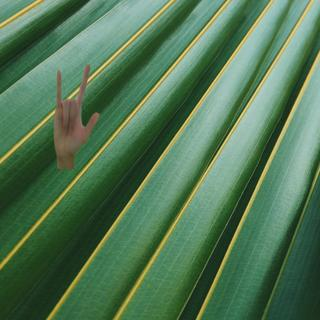ILY: (49, 62, 102, 159)
